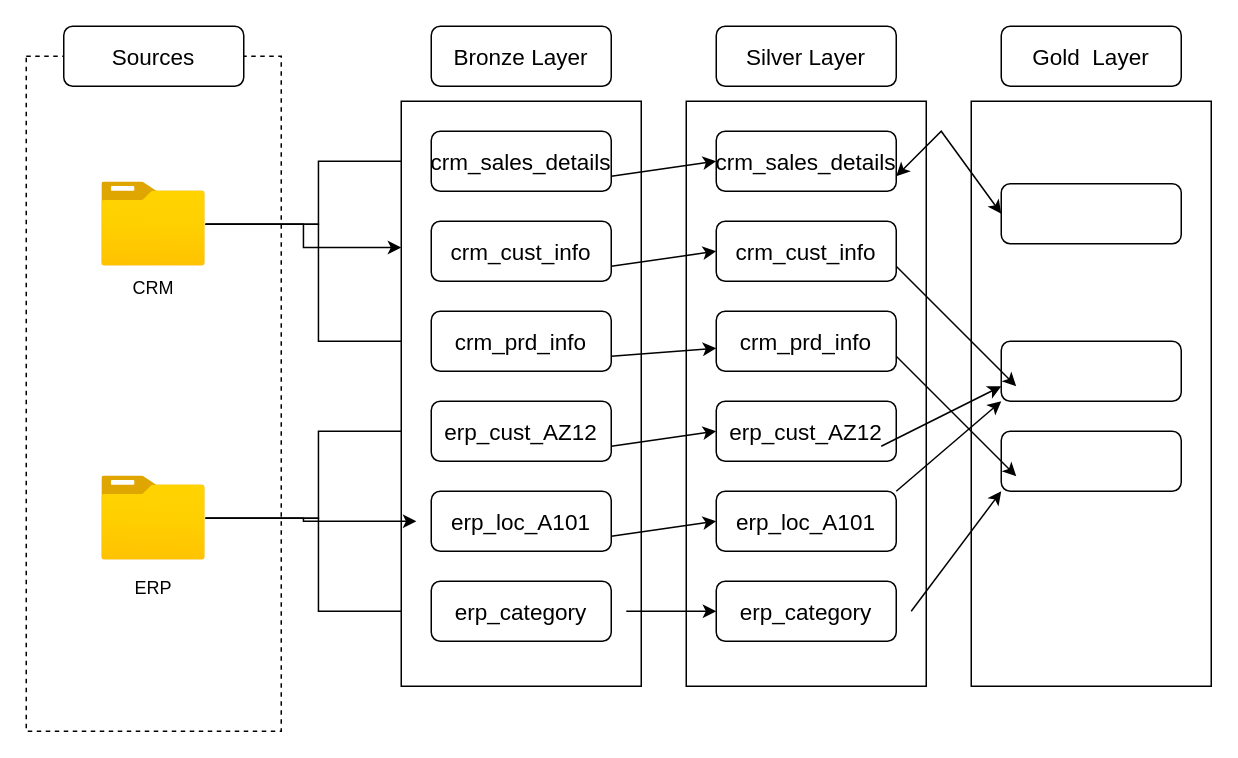
The diagram is 1238 pixels wide and 758 high, and some of its shapes have lost their labels. Each missing label, with the centre of its shape:
"dim_customers" goes at (1090,370).
"dim_products" goes at (1090,460).
"Fact_sales" goes at (1090,213).
